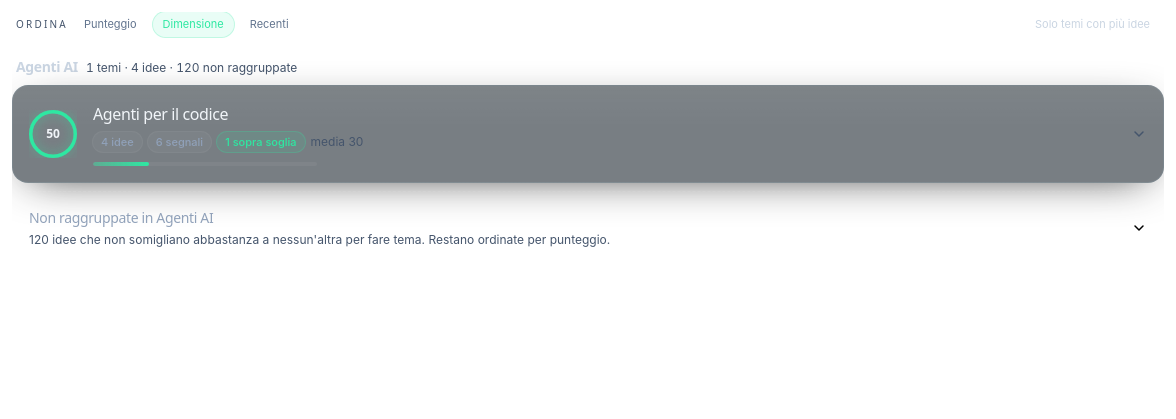
Scenario: idee non raggruppate › il macro-tema dice quante sono, e la sezione si apre
Expected: the text "1 temi · 4 idee · 120 non raggruppate" is shown, [86, 60, 297, 76]
Click the button "Non raggruppate in Agenti AI" at x=93, y=218, box [13, 192, 1163, 264]
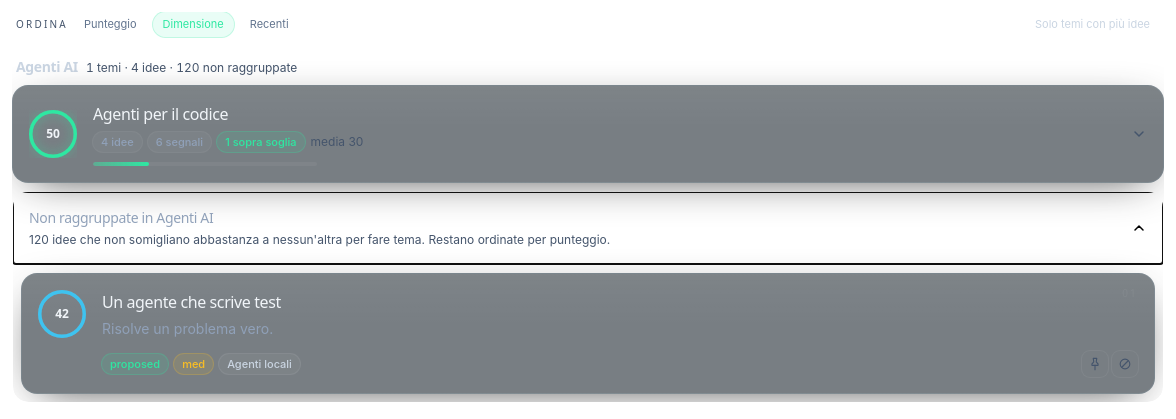
Expected: the text "Un agente che scrive test" is shown, [102, 290, 281, 314]
